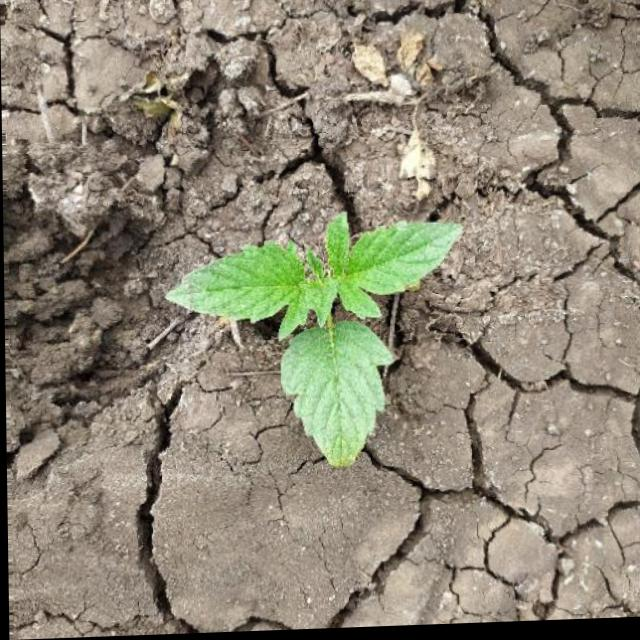crop: (154, 223, 479, 477)
